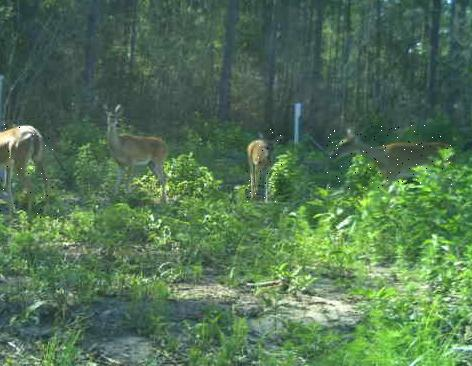Deer: (327, 126, 452, 190), (100, 101, 175, 203), (0, 122, 55, 218), (246, 129, 283, 203)
